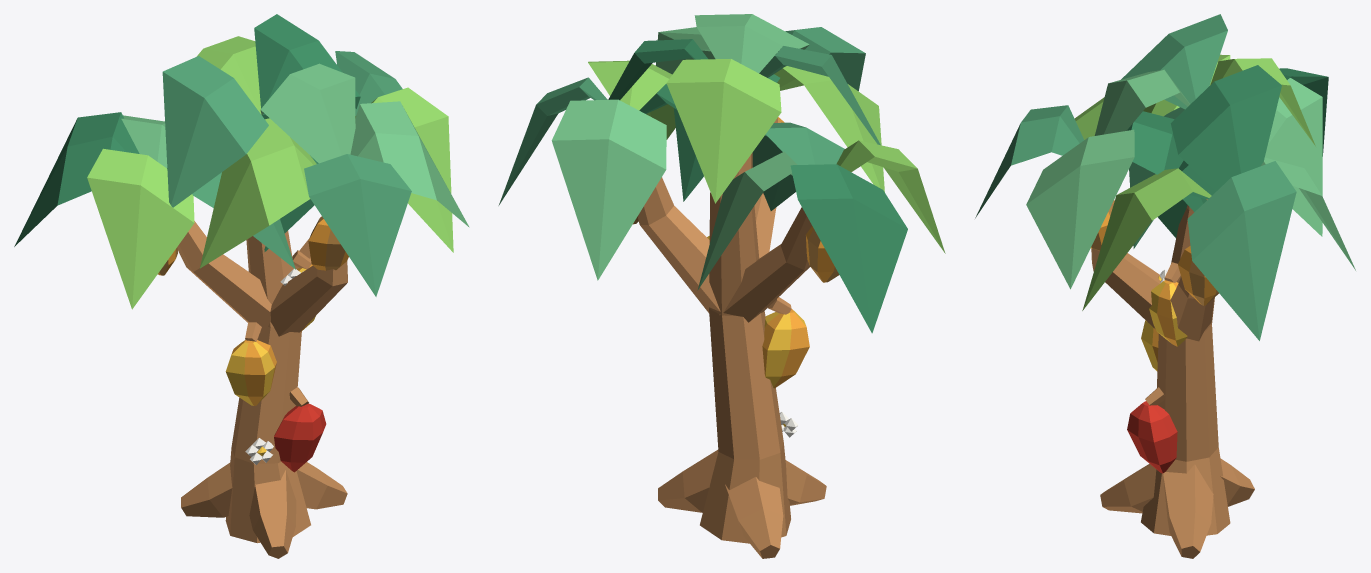
Rendered from 21-cacao.glb.
3 renders of one model, left to right at view 1: azimuth 30°, elevation 25°; view 2: azimuth 150°, elevation 25°; view 3: azimuth 270°, elevation 25°, orthographic. The views are drawn at different scales.
Parts seen in each view (by area): view 1: 21-cacao_Body; view 2: 21-cacao_Body; view 3: 21-cacao_Body.
Part boxes in pixels (box(x1,y1,x2,y2)): 21-cacao_Body: box(14, 14, 469, 558); 21-cacao_Body: box(498, 14, 945, 558); 21-cacao_Body: box(975, 14, 1355, 558).
Size of the model in its own units: 0.7336 by 0.8593 by 0.6306.
Materials: 1 (1 with a texture image).
